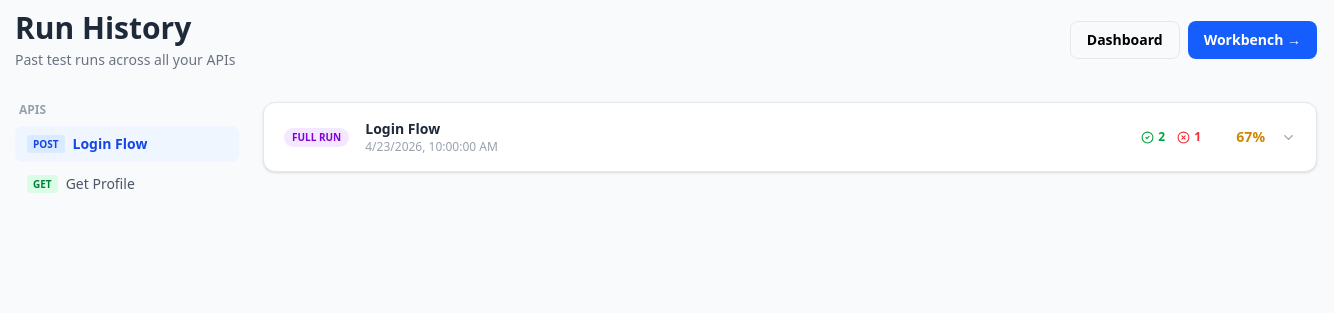
Test: HistoryPage Component › expands the run card to show individual test results on click
Wrap the click event in act if it triggers complex state changes
Click the text "Full run" at coordinates (317, 137), box [284,128,349,146]
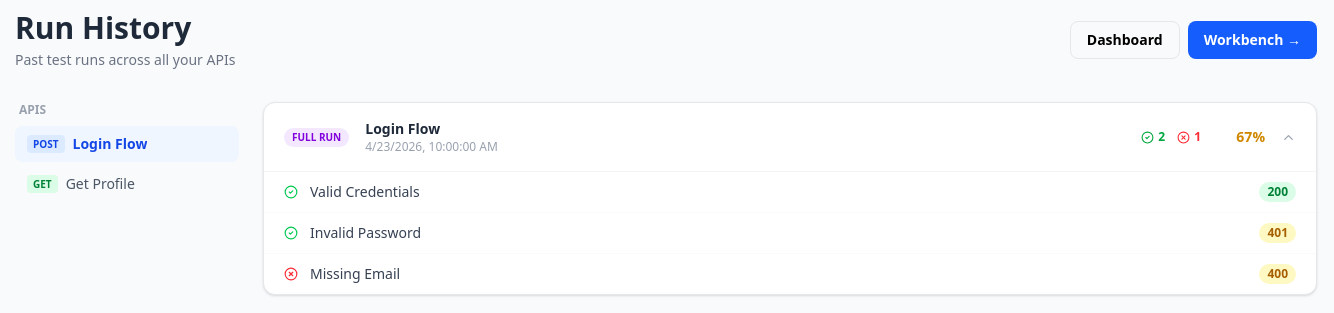
expect the text "Valid Credentials" is shown: met, box [310,182,420,201]
expect the text "401" is shown: met, box [1259,223,1296,243]
